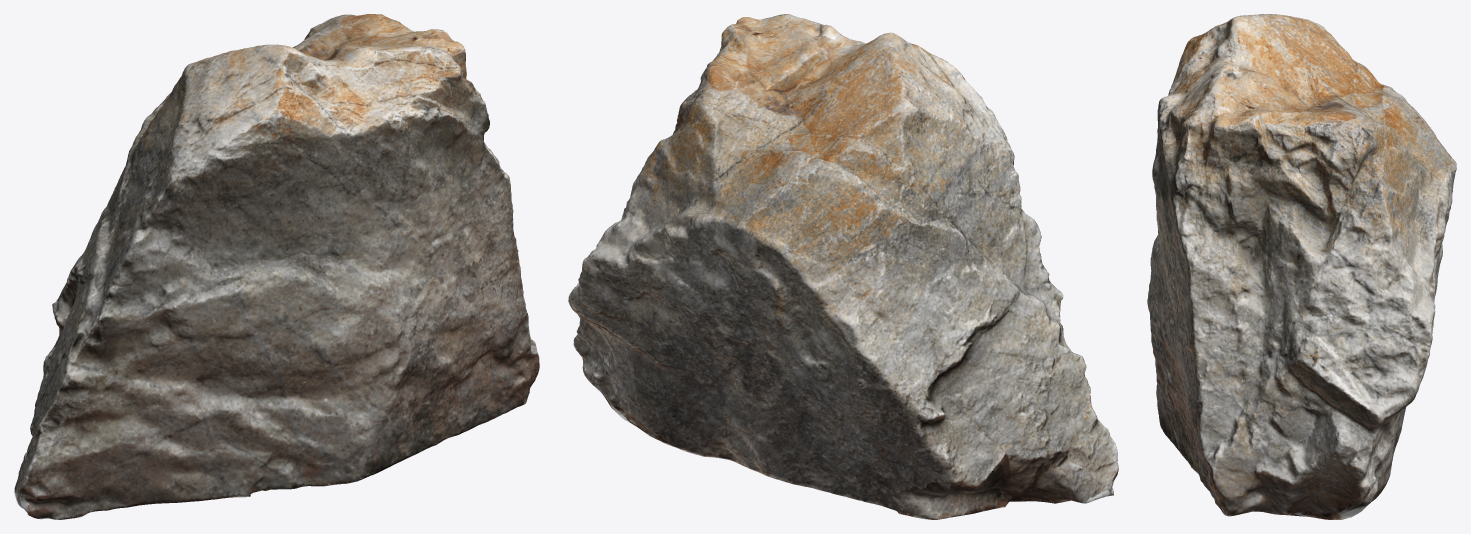
The model's file is sparse3.glb.
The picture shows the model from 3 angles, left to right: view 1: azimuth 30°, elevation 25°; view 2: azimuth 150°, elevation 25°; view 3: azimuth 270°, elevation 25°; orthographic projection. The views are drawn at different scales.
Size of the model in its own units: 3.48 by 2.7 by 1.87.
1 material, 1 textured.
